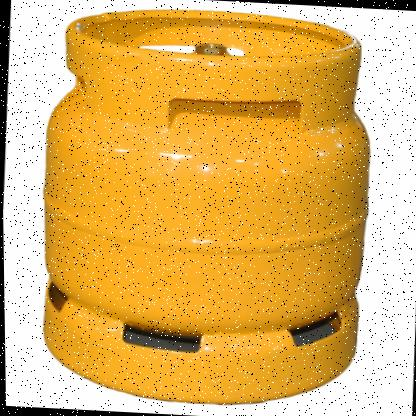gas-tank: (16, 0, 405, 415)
